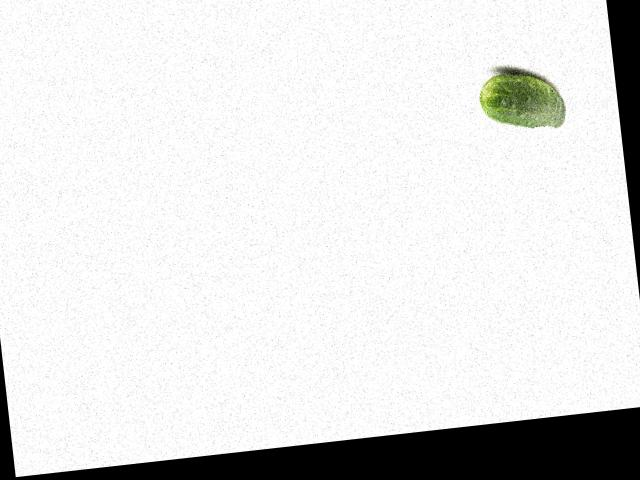cucumber: (476, 67, 567, 135)
